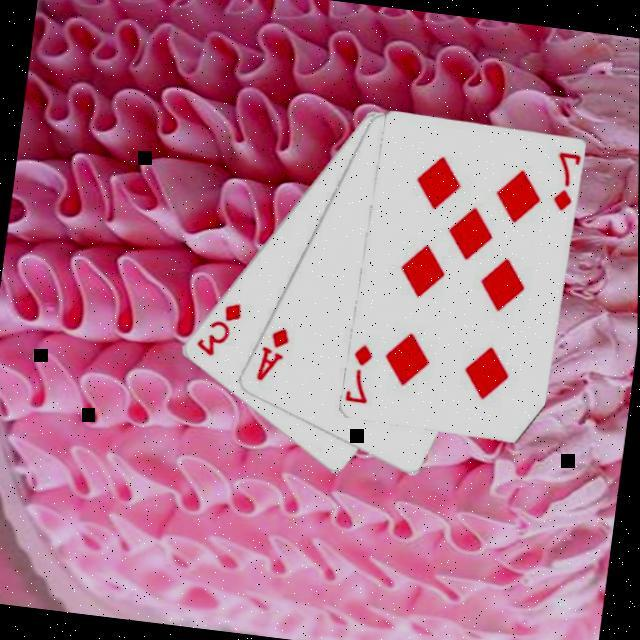3D: (193, 296, 246, 363)
7D: (346, 341, 378, 409), (549, 150, 581, 216)
AD: (253, 323, 293, 388)
